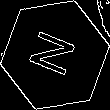N_E: (26, 27, 84, 83)
